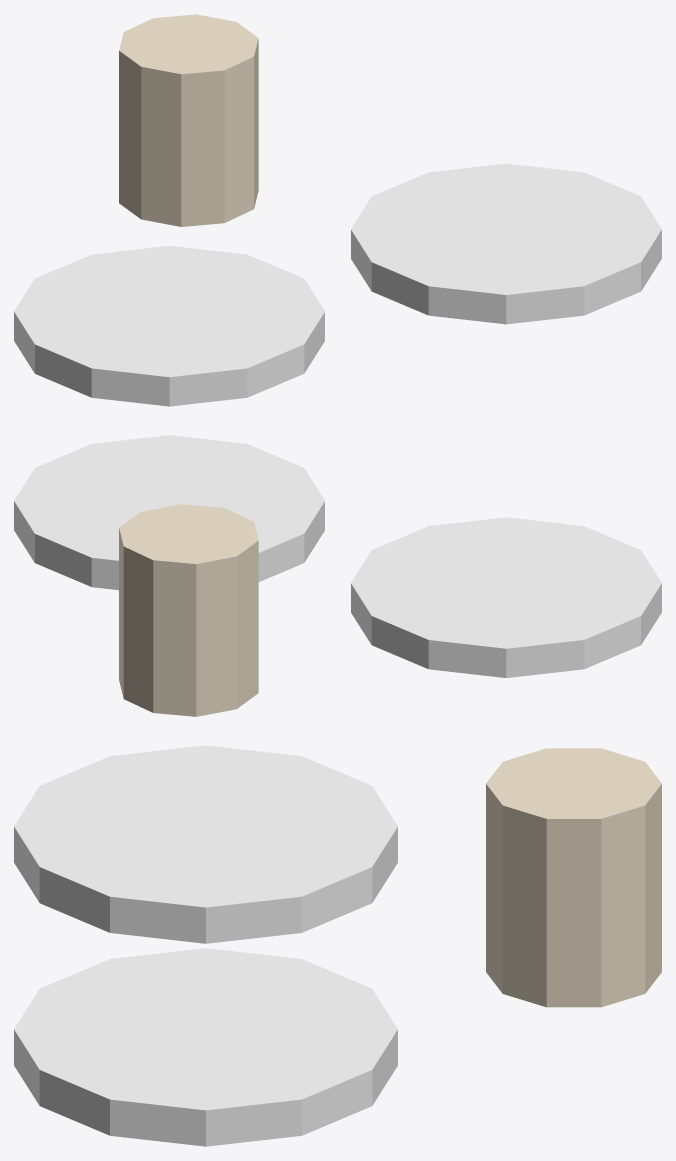
The picture shows the model from 3 angles, top to bottom: view 1: azimuth 30°, elevation 25°; view 2: azimuth 150°, elevation 25°; view 3: azimuth 270°, elevation 25°; orthographic projection. The views are drawn at different scales.
Visible parts, largest first — view 1: Plate.001, Plate, Cup; view 2: Plate, Plate.001, Cup; view 3: Plate, Plate.001, Cup.
Part boxes in pixels (x1,y1,x2,y2): Plate.001: (351,163,661,324); Plate: (14,245,324,406); Cup: (119,14,258,226); Plate: (351,517,661,677); Plate.001: (14,435,324,590); Cup: (119,504,258,716); Plate: (14,745,397,943); Plate.001: (14,948,397,1146); Cup: (486,748,661,1007).
Bounding box in the file's own units: 0.54 × 0.13 × 0.405.
1 material, 1 textured.
